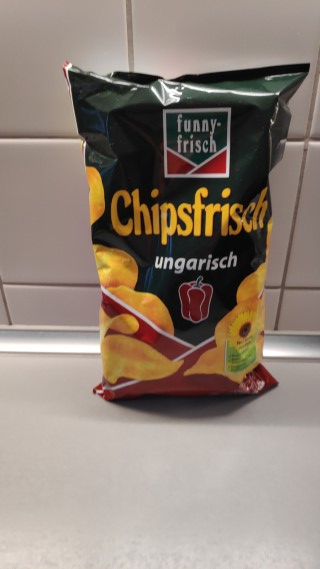chipsfrisch: (62, 59, 311, 399)
